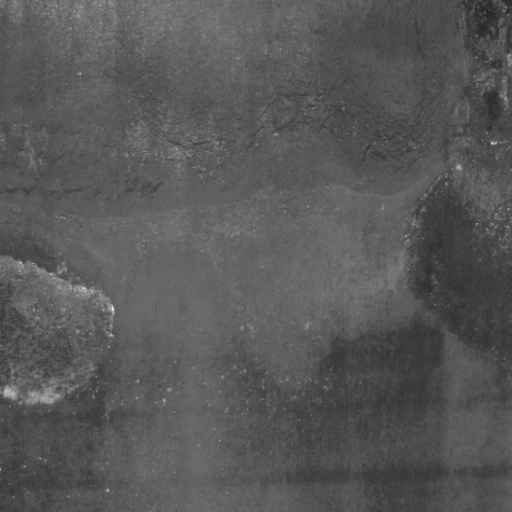aokeng: (403, 168, 512, 357), (1, 252, 119, 406)
